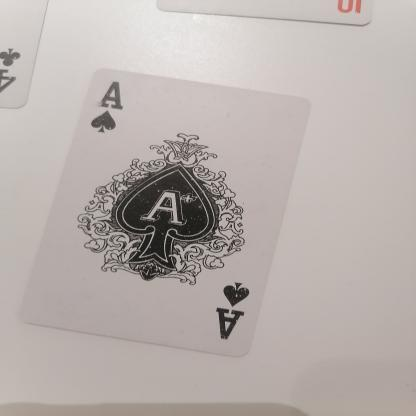AS: (199, 268, 262, 352), (74, 75, 140, 139)
